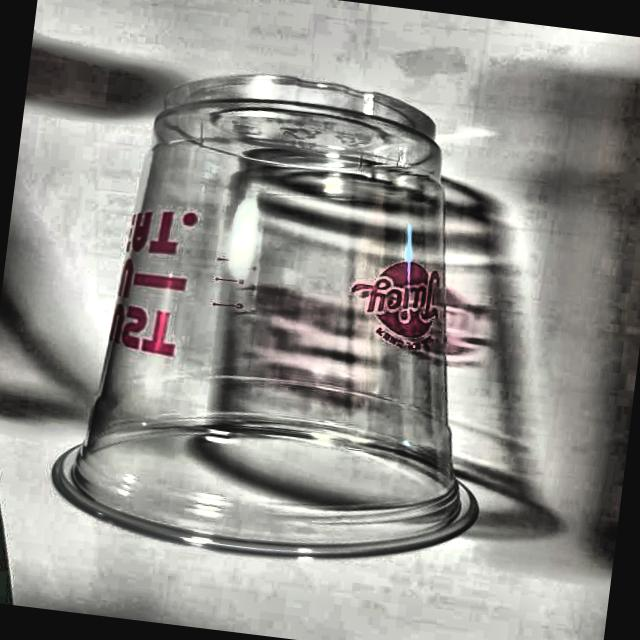plastic cup: (41, 48, 532, 587)
